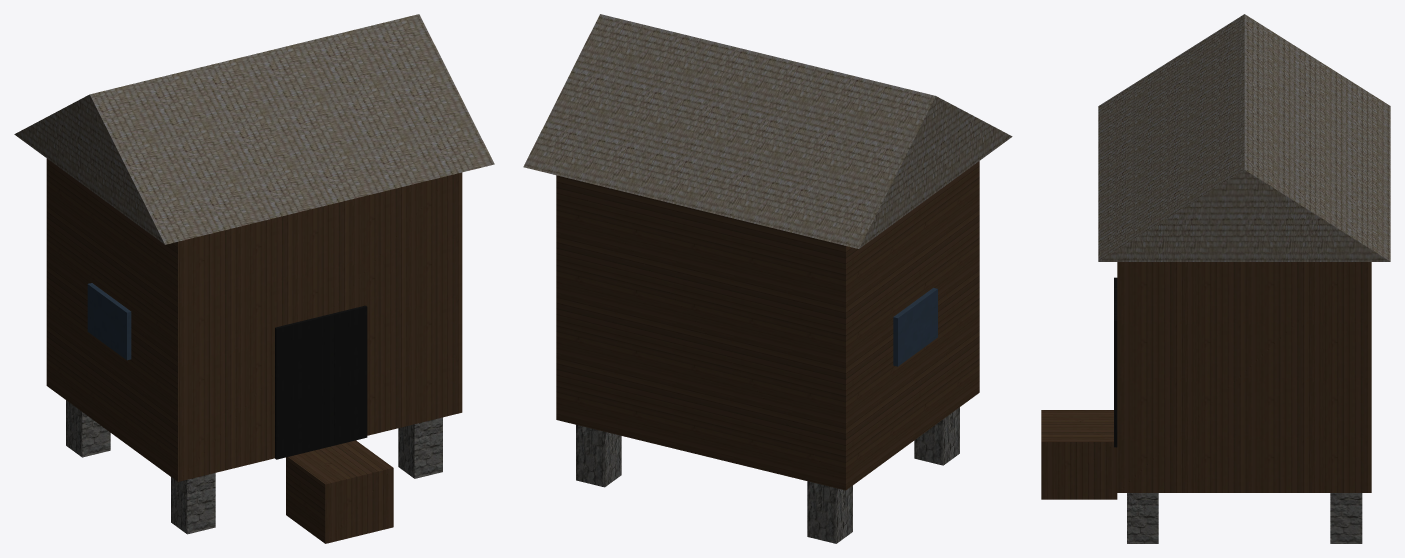
The model's file is vault_granary_01.glb.
The picture shows the model from 3 angles, left to right: view 1: azimuth 30°, elevation 25°; view 2: azimuth 150°, elevation 25°; view 3: azimuth 270°, elevation 25°; orthographic projection. The views are drawn at different scales.
Visible parts, largest first — view 1: vault_granary_01; view 2: vault_granary_01; view 3: vault_granary_01.
Part boxes in pixels (x1,y1,x2,y2): vault_granary_01: (14, 14, 494, 543); vault_granary_01: (523, 14, 1012, 543); vault_granary_01: (1041, 14, 1390, 543).
Size of the model in its own units: 5.8 by 6.8 by 5.5.
5 materials, 5 textured.
